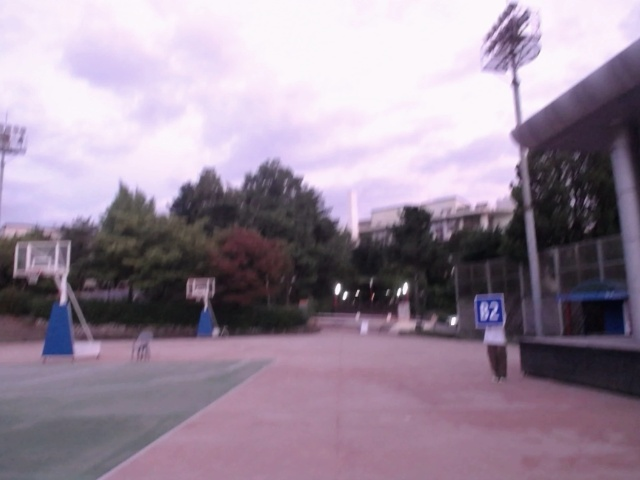delivery_b2: (474, 294, 505, 327)
